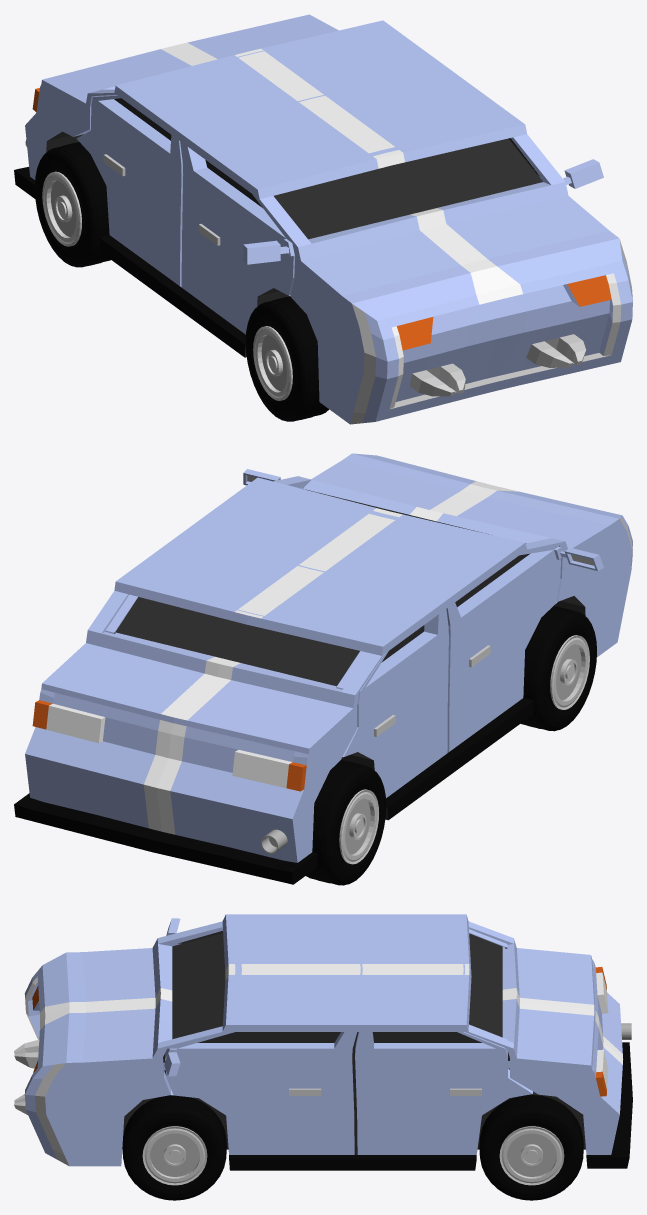
The picture shows the model from 3 angles, top to bottom: view 1: azimuth 30°, elevation 25°; view 2: azimuth 150°, elevation 25°; view 3: azimuth 270°, elevation 25°; orthographic projection. The views are drawn at different scales.
Visible parts, largest first — view 1: BODY, WHEEL.001, WHEEL.004; view 2: BODY, WHEEL.004, WHEEL.001; view 3: BODY, WHEEL.002, WHEEL.003.
Boxes of the visible parts, box(x1,y1,x2,y2) form: BODY: box(14, 14, 632, 424); WHEEL.001: box(245, 296, 329, 421); WHEEL.004: box(34, 142, 110, 267); BODY: box(14, 453, 632, 884); WHEEL.004: box(306, 760, 386, 885); WHEEL.001: box(520, 606, 596, 731); BODY: box(14, 914, 632, 1170); WHEEL.002: box(479, 1095, 583, 1200); WHEEL.003: box(122, 1095, 226, 1200).
Bounding box in the file's own units: 131 × 71.48 × 232.
